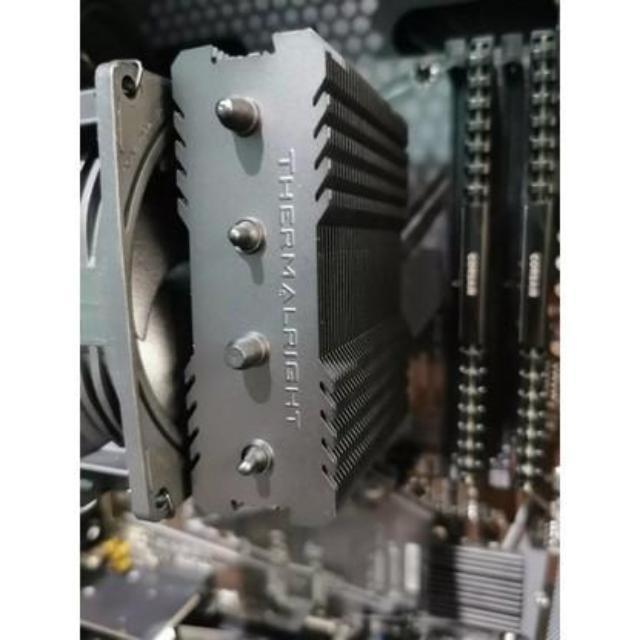CPU_Fan: (74, 34, 418, 526)
